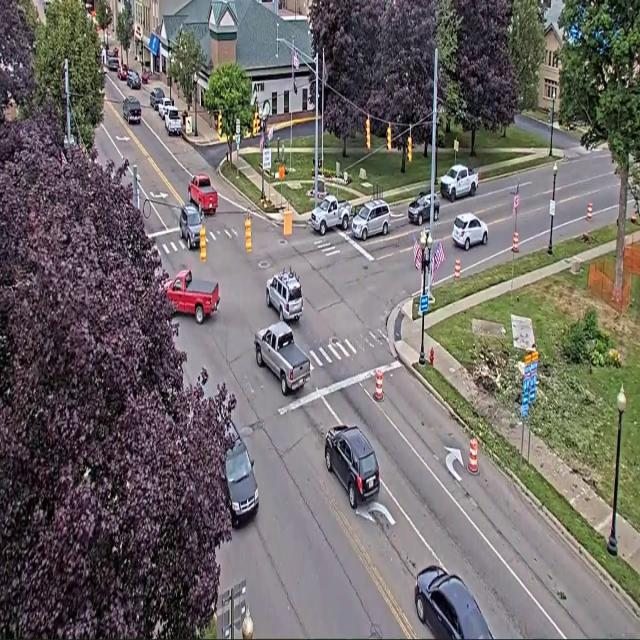car: (415, 566, 492, 639), (325, 425, 379, 509), (225, 421, 258, 527), (266, 268, 303, 321), (352, 200, 390, 240), (452, 214, 487, 250), (179, 204, 201, 249), (408, 192, 430, 225), (123, 96, 141, 123), (157, 97, 173, 119), (150, 88, 164, 110), (127, 70, 141, 89), (106, 55, 120, 72), (118, 64, 128, 80)
traffic signal: (200, 225, 206, 262), (245, 216, 251, 252), (253, 112, 259, 135), (366, 117, 370, 149), (387, 124, 391, 151), (408, 136, 412, 162), (218, 112, 221, 137)
truck: (255, 321, 310, 395), (165, 271, 219, 324), (310, 195, 351, 235), (440, 165, 478, 202), (189, 175, 218, 214), (164, 106, 181, 135)
